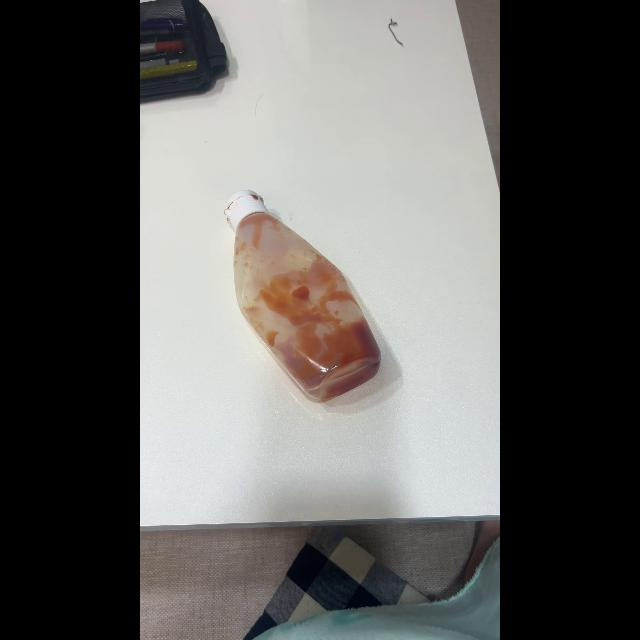dirty: (216, 193, 397, 399)
